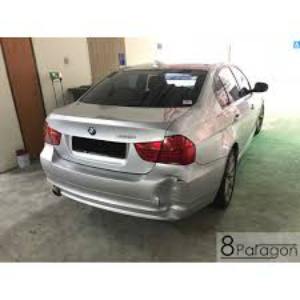bumper: (128, 171, 200, 221)
